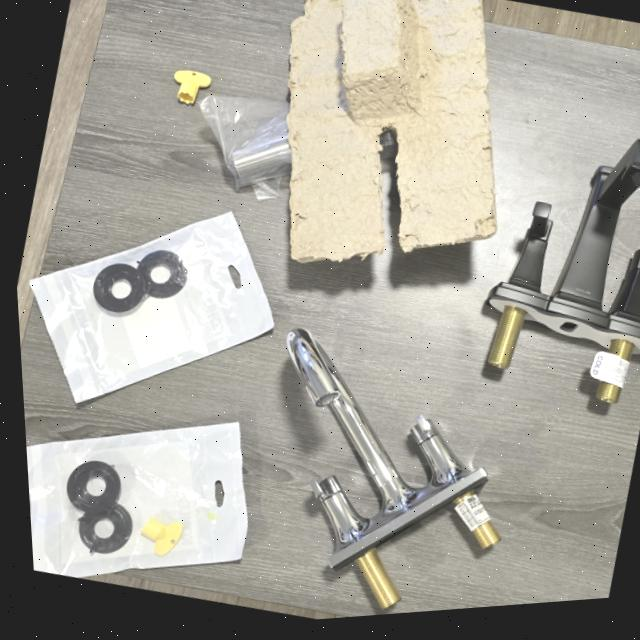10: (285, 328, 499, 607)
11o: (197, 94, 290, 199)
12: (26, 422, 246, 577)
13: (29, 211, 272, 401)
14: (174, 69, 210, 103)
9: (487, 138, 640, 402)
